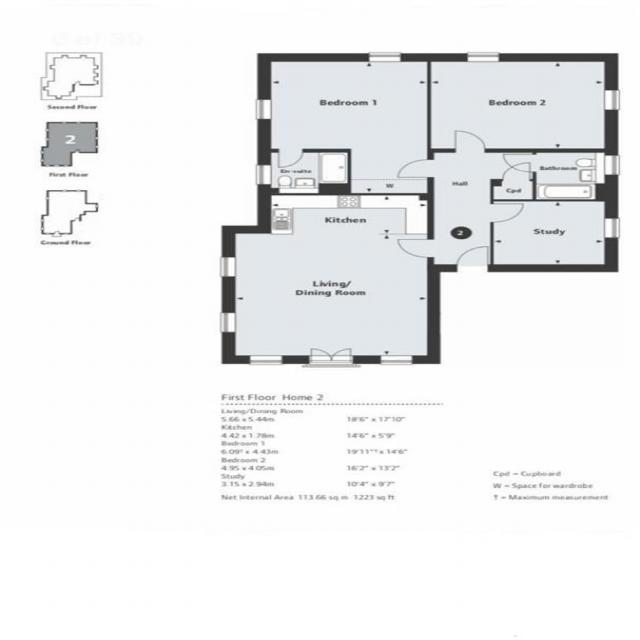DOOR: (454, 245, 491, 273), (396, 238, 435, 259), (395, 159, 435, 179), (453, 129, 486, 153), (490, 203, 524, 223), (277, 148, 304, 169)
ROOM: (221, 193, 441, 364), (256, 53, 434, 195), (426, 53, 619, 153), (490, 199, 619, 272)
WINDOW: (602, 153, 622, 177), (603, 217, 621, 239), (219, 256, 237, 278), (248, 355, 284, 366), (603, 89, 621, 111), (379, 355, 414, 366), (219, 312, 237, 333), (465, 52, 501, 62), (255, 99, 272, 120), (255, 164, 272, 185), (367, 53, 402, 62)
